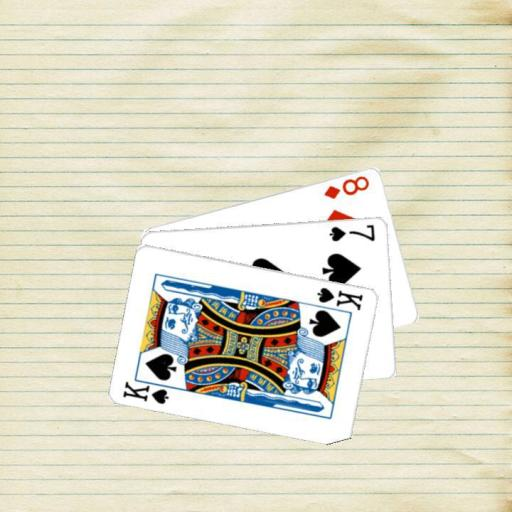7S: (326, 221, 377, 243)
8D: (321, 172, 371, 201)
KS: (120, 374, 177, 405), (314, 284, 365, 311)
